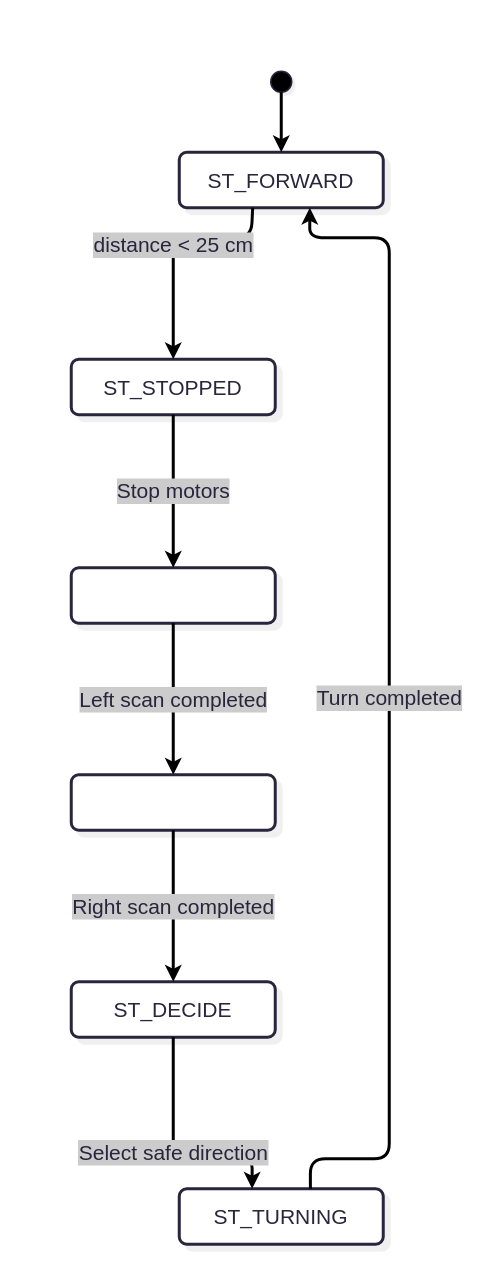
Some shapes in this 486 by 1277 pixel diagram are drawn without their labels. Here are the shapes that lost their labels. From the top down, the centre of each, then its label:
At [175,598]: "ST_SCAN_LEFT".
At [175,804]: "ST_SCAN_RIGHT".
